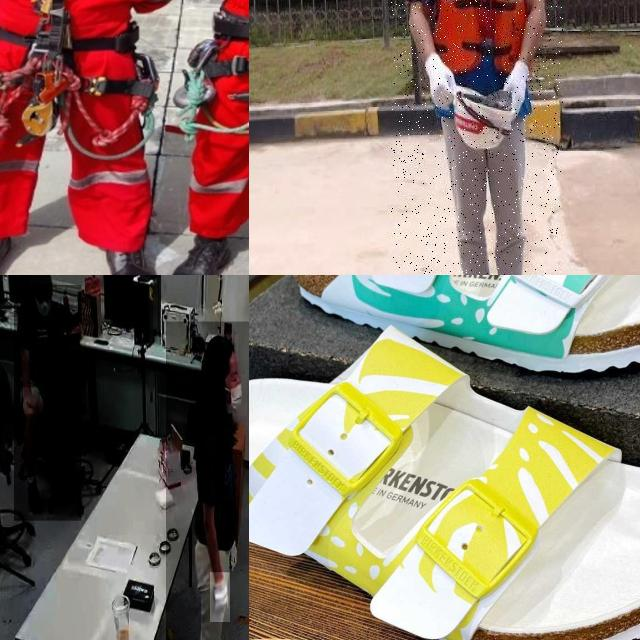Harness: (0, 0, 151, 97)
Sandals: (249, 310, 640, 640), (257, 275, 640, 387)
face_mask: (223, 374, 247, 417), (35, 298, 51, 322)
hand_glove: (210, 572, 230, 623)
hand_noglove: (23, 387, 43, 415)
head_helmet: (454, 83, 515, 151)
head_nohelmet: (201, 335, 239, 362), (30, 275, 51, 284)
person: (390, 0, 563, 275), (165, 321, 249, 640), (14, 285, 82, 522)
vest: (429, 0, 534, 118)
